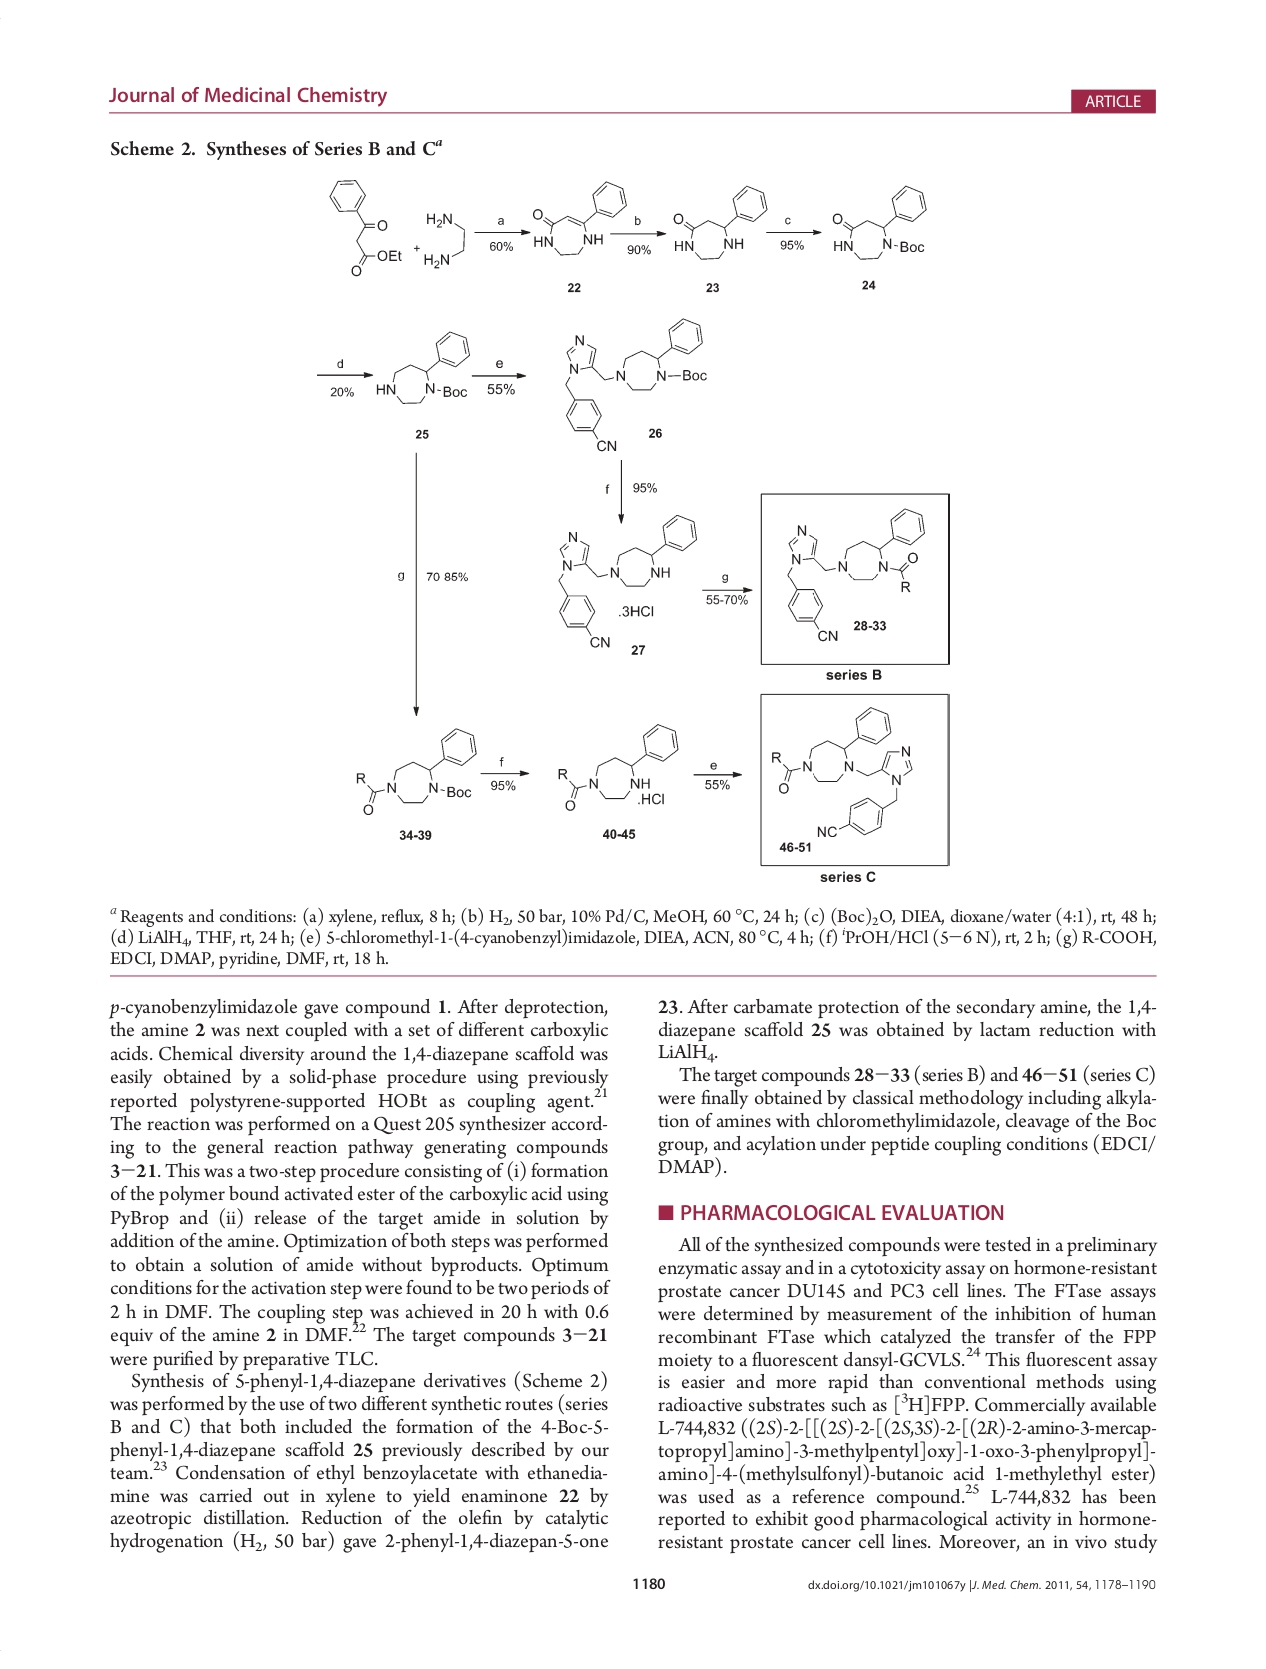exist_molecular: (563, 314, 709, 453), (783, 505, 926, 648), (555, 512, 699, 648), (770, 704, 915, 839), (556, 721, 680, 814), (352, 726, 479, 817), (828, 184, 930, 269), (669, 184, 771, 262), (374, 327, 472, 406), (328, 173, 402, 277), (531, 180, 629, 255), (420, 207, 468, 271)
